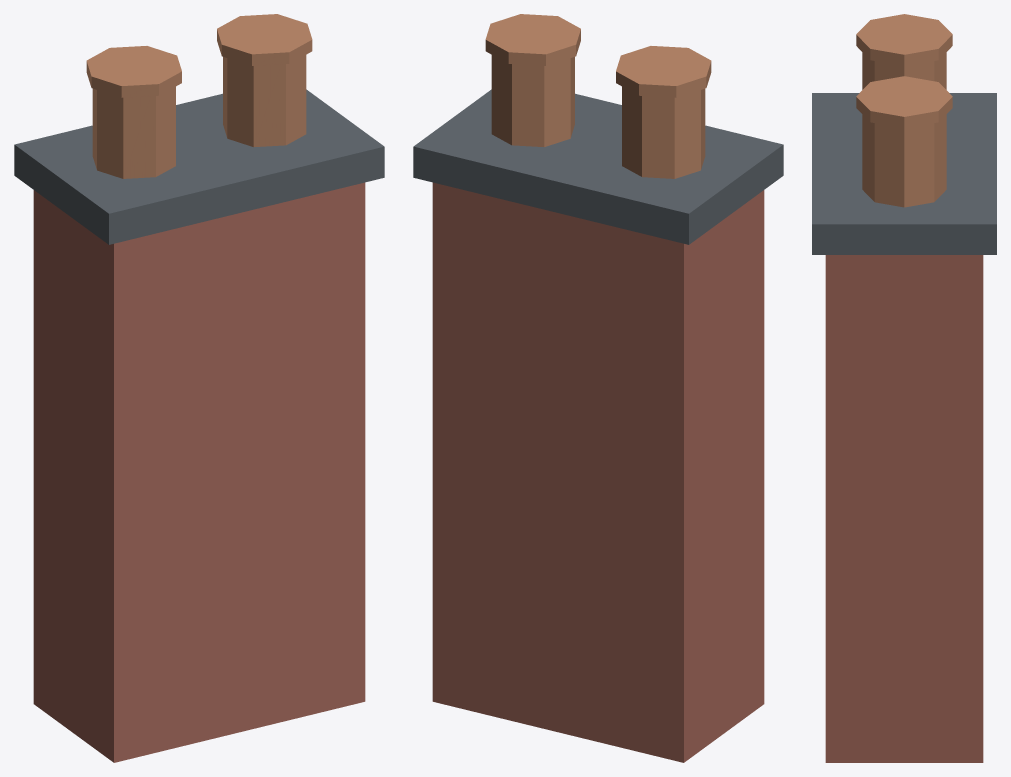
File: arkham_chimney_doubleflue.glb
The picture shows the model from 3 angles, left to right: view 1: azimuth 30°, elevation 25°; view 2: azimuth 150°, elevation 25°; view 3: azimuth 270°, elevation 25°; orthographic projection. The views are drawn at different scales.
Parts seen in each view (by area): view 1: Arkham_Chimney_DoubleFlue; view 2: Arkham_Chimney_DoubleFlue; view 3: Arkham_Chimney_DoubleFlue.
Part boxes in pixels (box(x1,y1,x2,y2)): Arkham_Chimney_DoubleFlue: box(14, 14, 384, 762); Arkham_Chimney_DoubleFlue: box(413, 14, 783, 762); Arkham_Chimney_DoubleFlue: box(812, 14, 996, 762).
Bounding box in the file's own units: 1.48 × 3.35 × 0.88.
